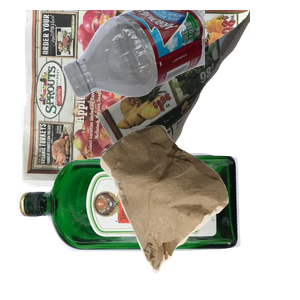glass: (14, 150, 247, 300)
paper: (18, 10, 258, 190)
plastic: (60, 10, 300, 100)
trash: (98, 123, 300, 300)
